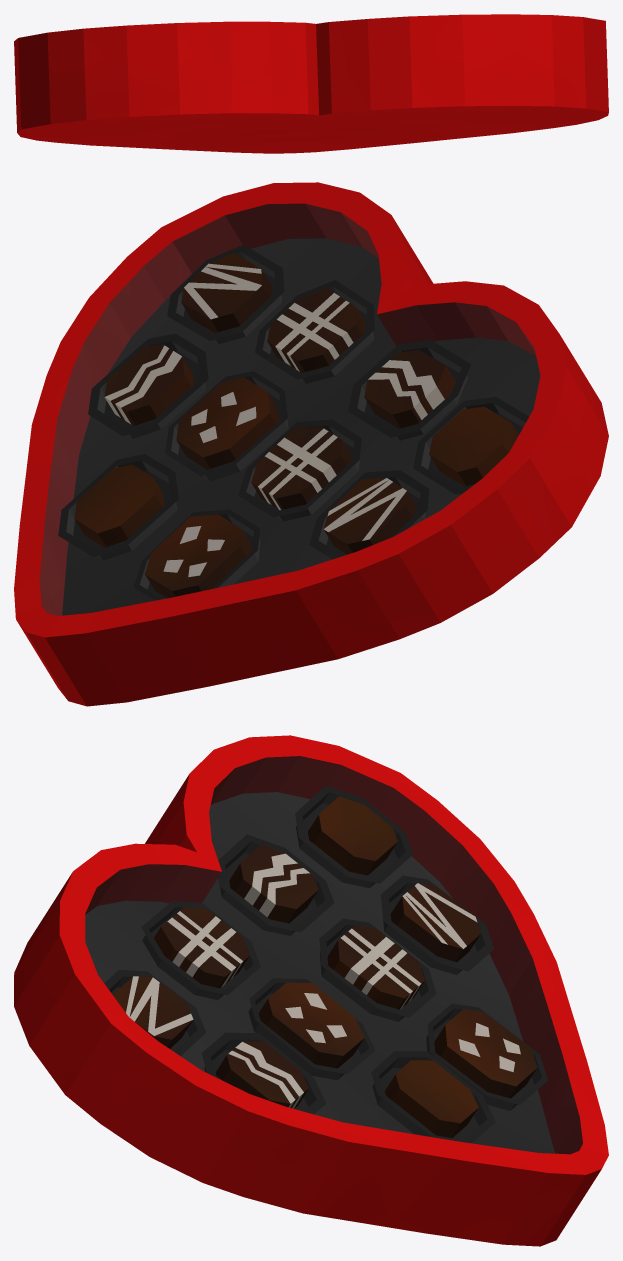
The model's file is BOX OF CHOCOLATES HAT.fbx.
3 renders of one model, top to bottom at view 1: azimuth 30°, elevation 25°; view 2: azimuth 150°, elevation 25°; view 3: azimuth 270°, elevation 25°, orthographic. The views are drawn at different scales.
Parts seen in each view (by area): view 1: BOX_OF_CHOCOLATES_HAT; view 2: BOX_OF_CHOCOLATES_HAT; view 3: BOX_OF_CHOCOLATES_HAT.
Boxes of the visible parts, <box> form: BOX_OF_CHOCOLATES_HAT: <box>14,14,608,153</box>; BOX_OF_CHOCOLATES_HAT: <box>14,182,608,706</box>; BOX_OF_CHOCOLATES_HAT: <box>14,735,608,1246</box>.
Bounding box in the file's own units: 26.09 × 15.2 × 23.8.
